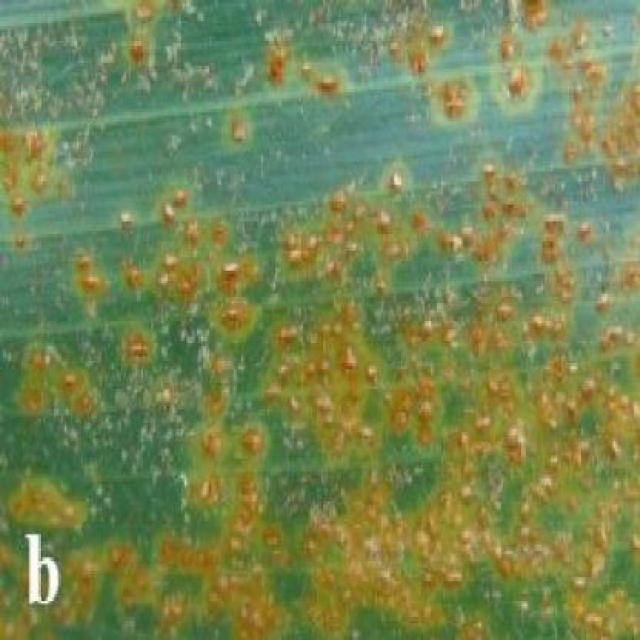Corn_Rust: (0, 0, 640, 522)
